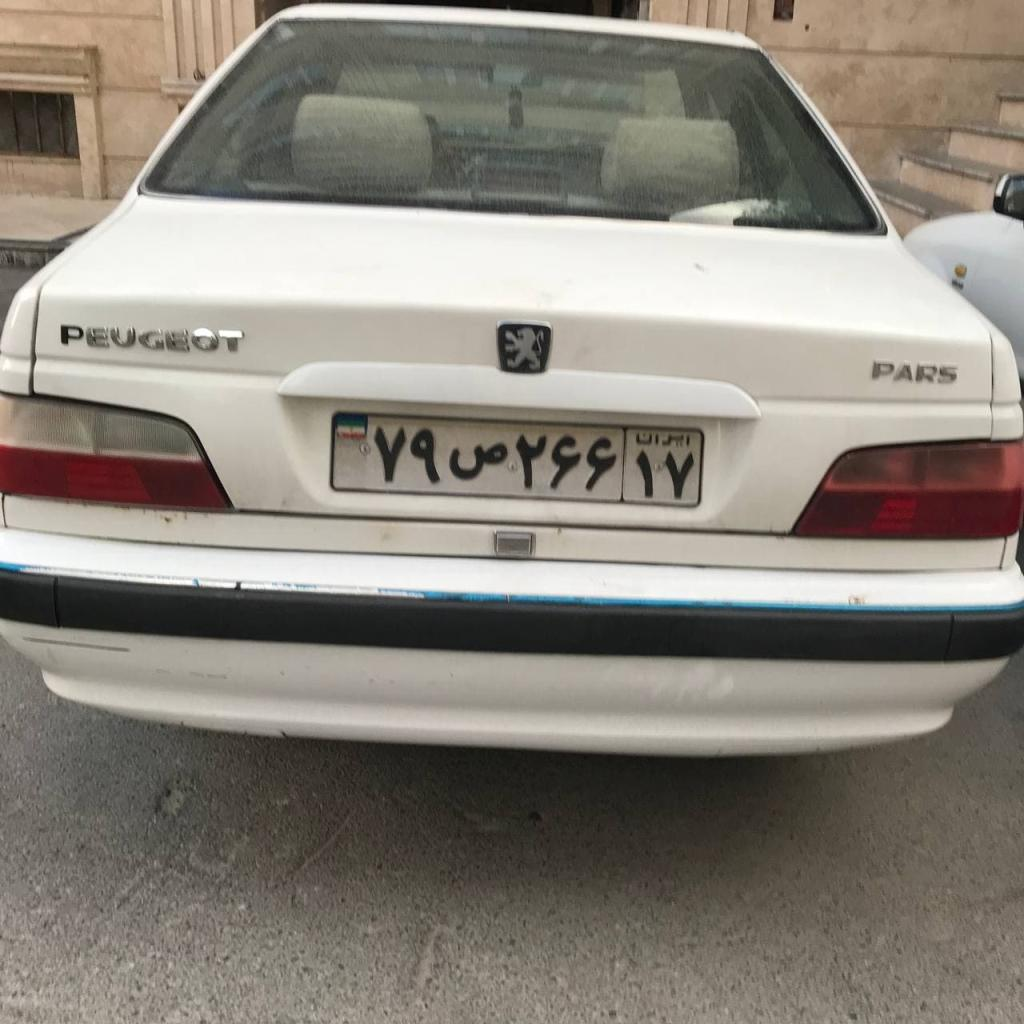Plates: (331, 413, 703, 506)
